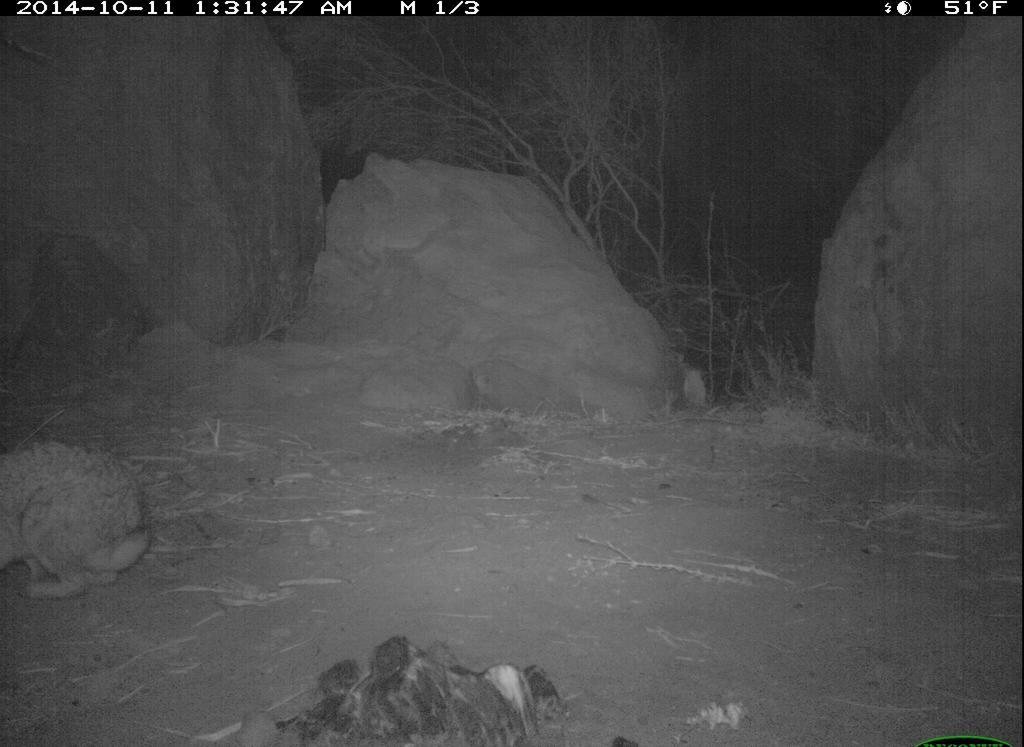rabbit: (1, 428, 154, 620)
